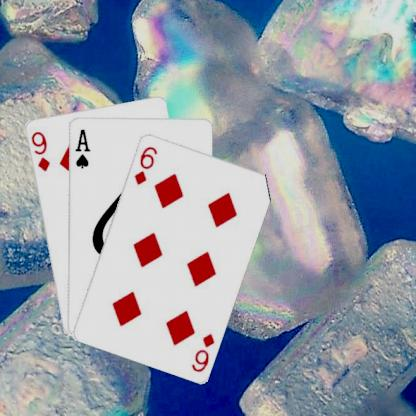6D: (131, 143, 159, 186), (188, 330, 216, 373)
9D: (29, 128, 52, 173)
AS: (71, 126, 91, 169)
